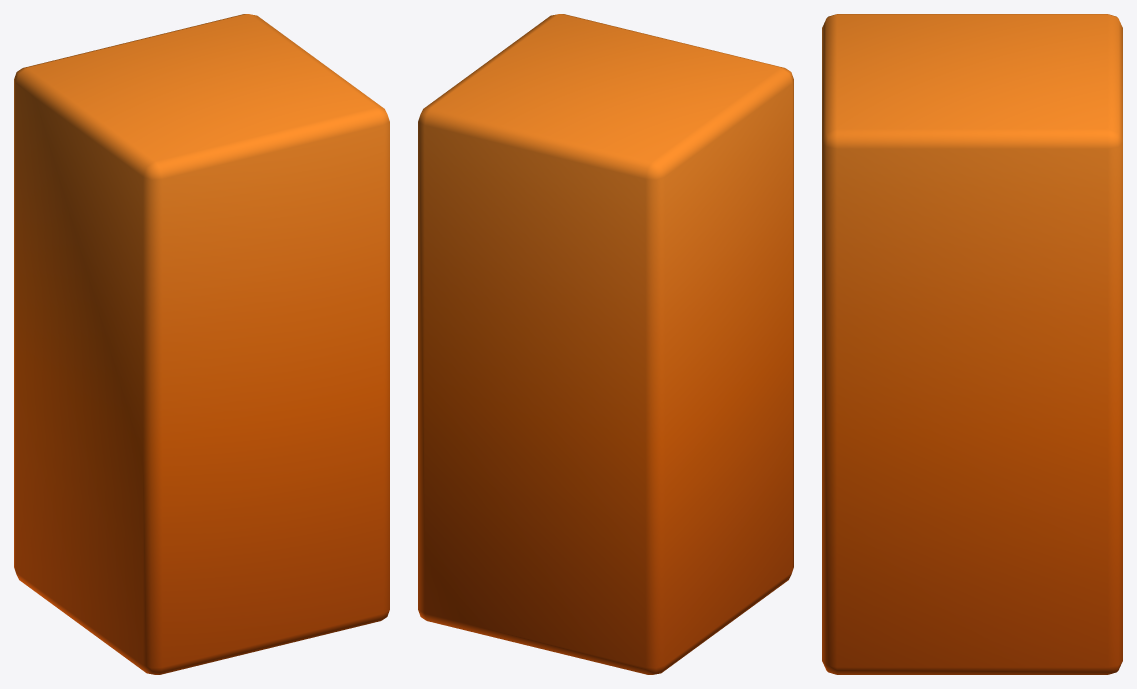
The model's file is 3D_Tile_Ground_03x2.fbx.
The picture shows the model from 3 angles, left to right: view 1: azimuth 30°, elevation 25°; view 2: azimuth 150°, elevation 25°; view 3: azimuth 270°, elevation 25°; orthographic projection. The views are drawn at different scales.
Parts seen in each view (by area): view 1: 3D_Tile_Ground_03x2; view 2: 3D_Tile_Ground_03x2; view 3: 3D_Tile_Ground_03x2.
Part boxes in pixels (<box>): 3D_Tile_Ground_03x2: <box>14,14,389,674</box>; 3D_Tile_Ground_03x2: <box>418,14,793,674</box>; 3D_Tile_Ground_03x2: <box>822,14,1122,674</box>.
Size of the model in its own units: 200 by 400 by 200.
